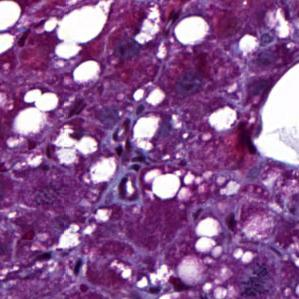ballooning: (254, 61, 297, 172)
